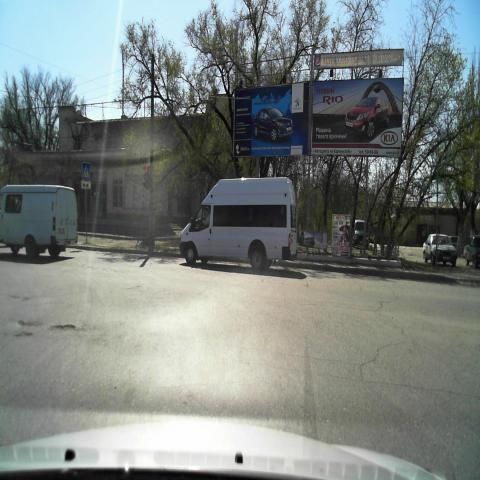8_15: (81, 180, 92, 189)
